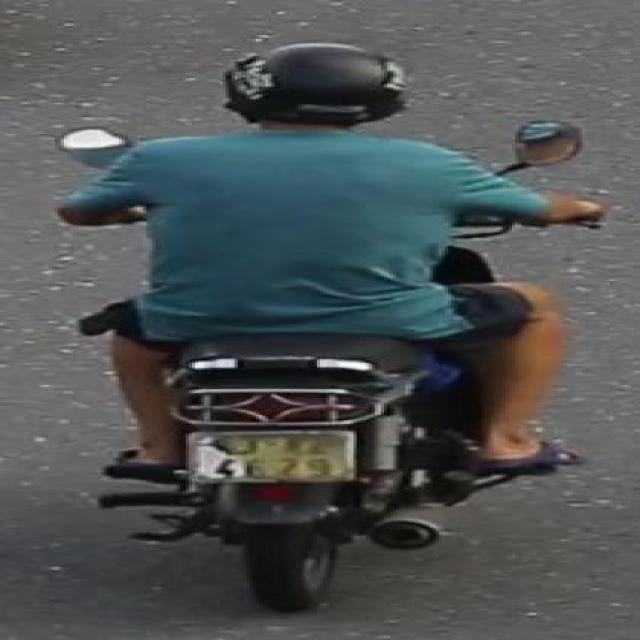LP: (180, 426, 362, 487)
helmet: (209, 38, 419, 156)
